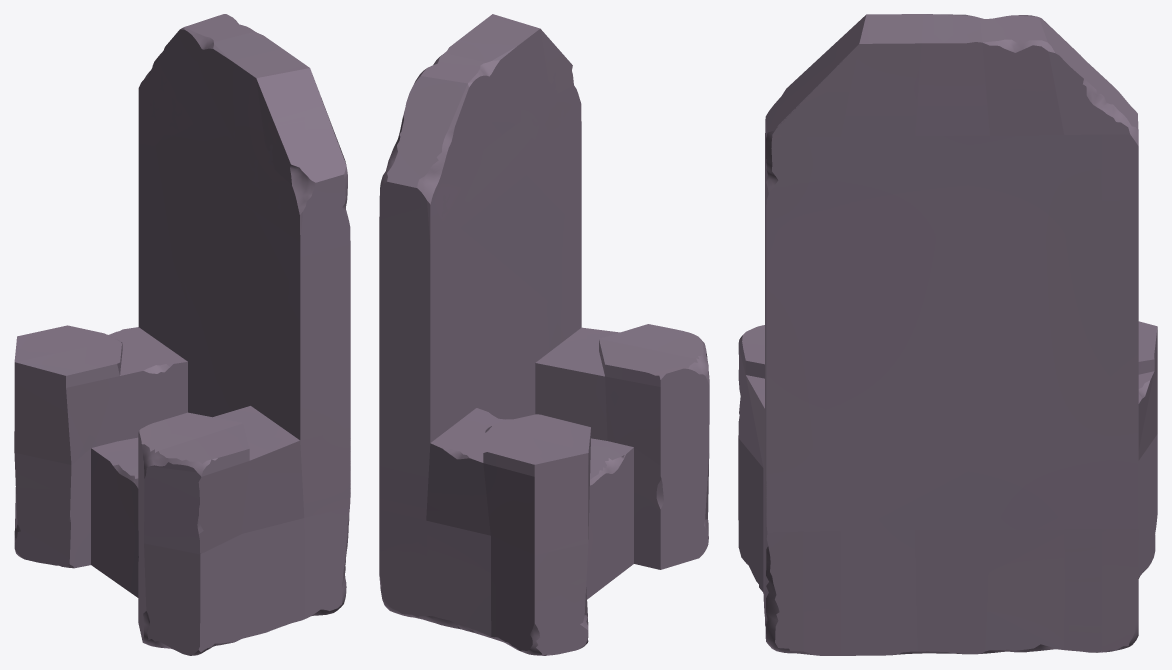
File: lvlGOD_chair.glb
3 views of the same model, side by side, from view 1: azimuth 30°, elevation 25°; view 2: azimuth 150°, elevation 25°; view 3: azimuth 270°, elevation 25° (orthographic). The views are drawn at different scales.
Parts seen in each view (by area): view 1: lvlGOD_chair; view 2: lvlGOD_chair; view 3: lvlGOD_chair.
Boxes of the visible parts, x1,y1,x2,y2 form: lvlGOD_chair: [14, 14, 350, 655]; lvlGOD_chair: [379, 14, 709, 655]; lvlGOD_chair: [738, 14, 1157, 655].
Size of the model in its own units: 14.71 by 36.73 by 22.8.
Materials: 1 (1 with a texture image).
